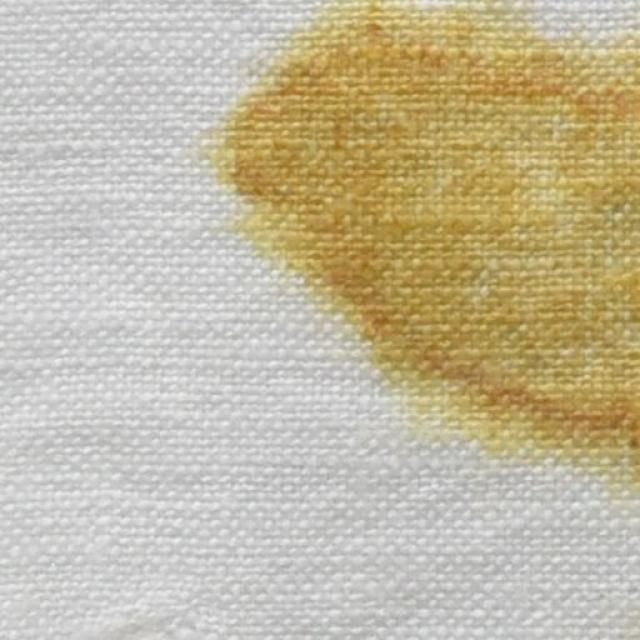Stain: (205, 3, 640, 488)
